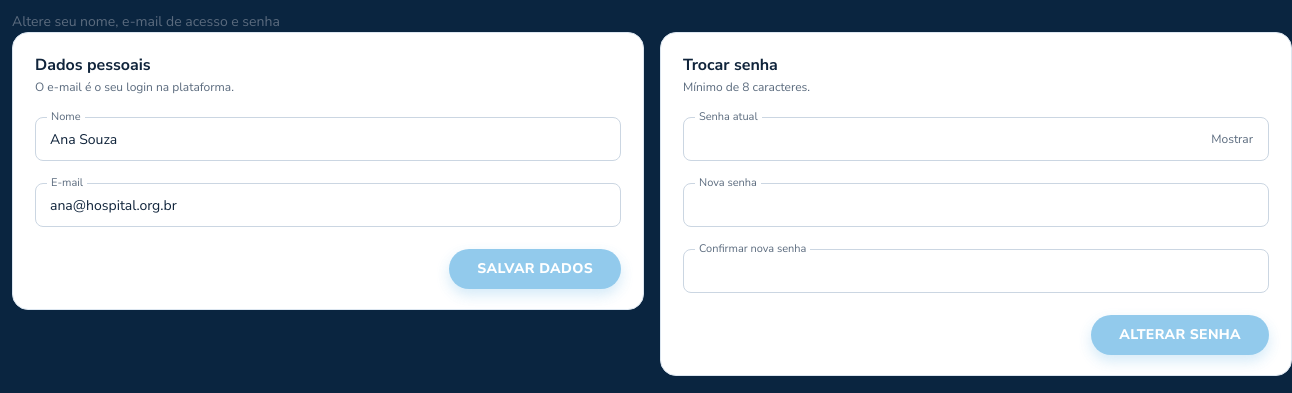
Test: Minha conta: dados pessoais › mostra o erro da API (ex.: e-mail já usado)
Replace the text in the 1st field with "Ana S." at x=328, y=139, box [35,117,621,161]
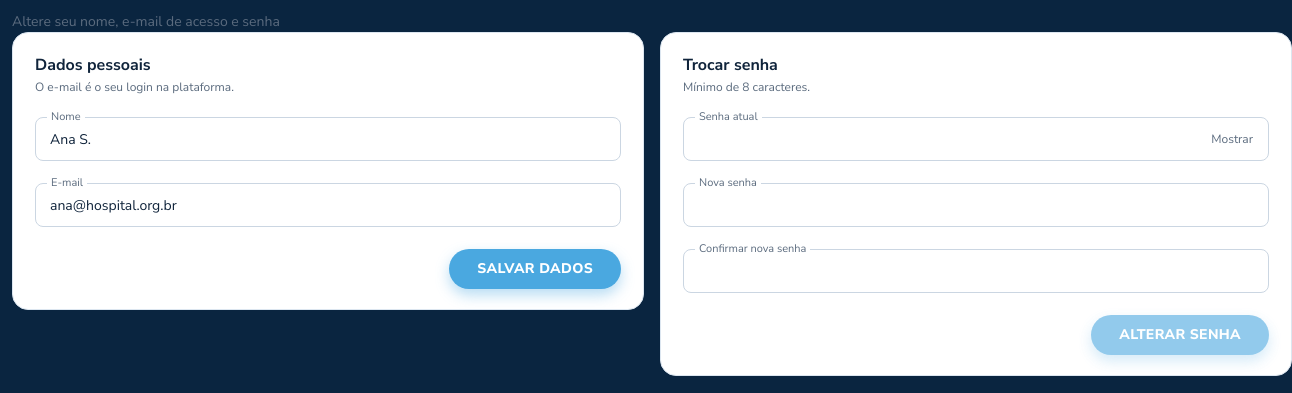
Click the button "SALVAR DADOS" at x=535, y=269, box [449,249,621,289]
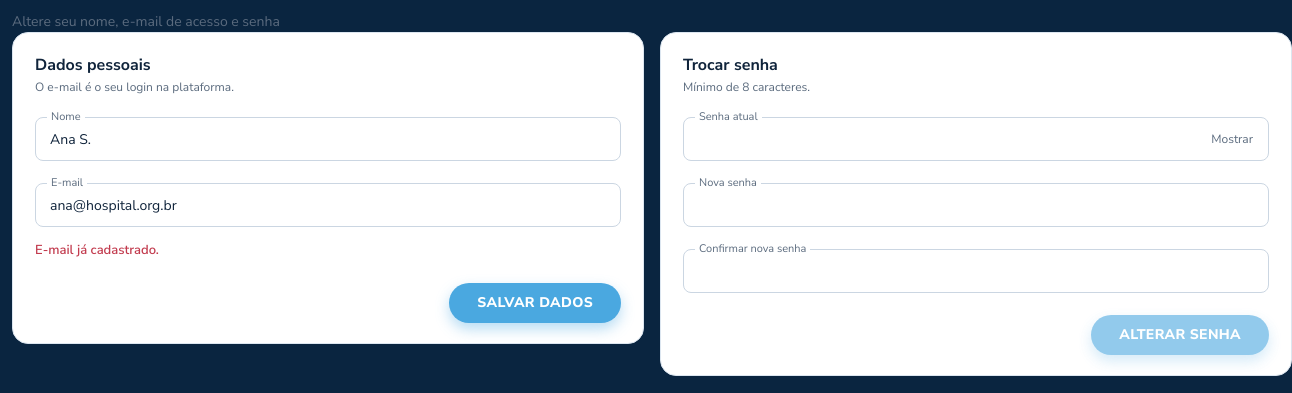
expect the text "E-mail já cadastrado." is shown: met, box [35,241,159,259]
